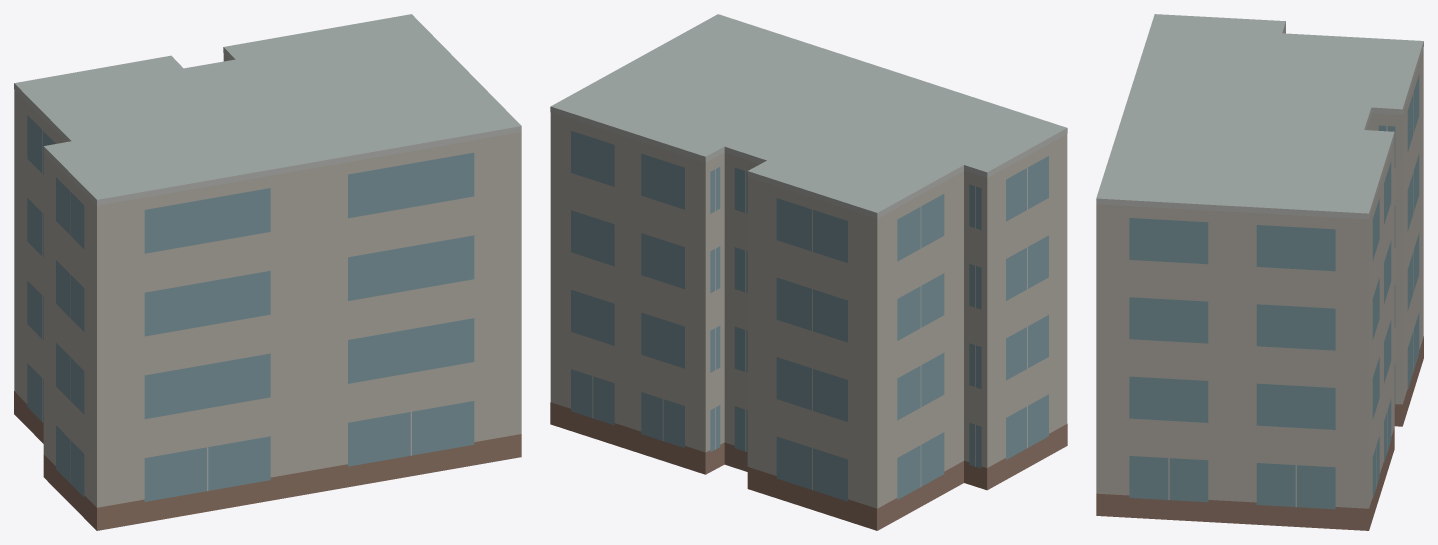
Rendered from survey-upis-32737408.glb.
3 views of the same model, side by side, from view 1: azimuth 30°, elevation 25°; view 2: azimuth 150°, elevation 25°; view 3: azimuth 270°, elevation 25° (orthographic). The views are drawn at different scales.
Visible parts, largest first — view 1: survey-upis-32737408.tmp; view 2: survey-upis-32737408.tmp; view 3: survey-upis-32737408.tmp.
Boxes of the visible parts, x1,y1,x2,y2 form: survey-upis-32737408.tmp: [14, 14, 521, 530]; survey-upis-32737408.tmp: [550, 14, 1067, 530]; survey-upis-32737408.tmp: [1096, 14, 1423, 530].
Size of the model in its own units: 18.08 by 13.4 by 12.55.
